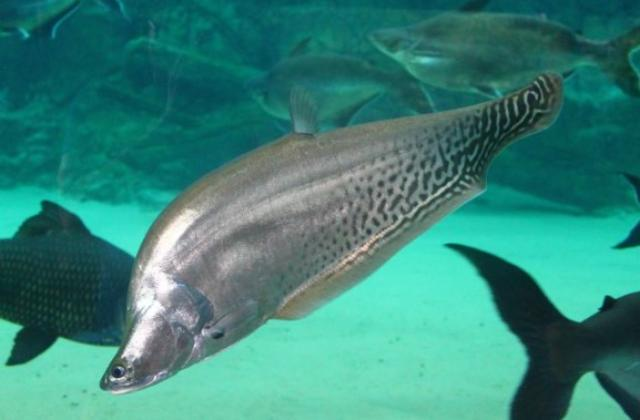Mulut: (94, 355, 172, 403)
Sirip Dada: (193, 292, 270, 346)
Sirip Punggung: (280, 74, 334, 148)
